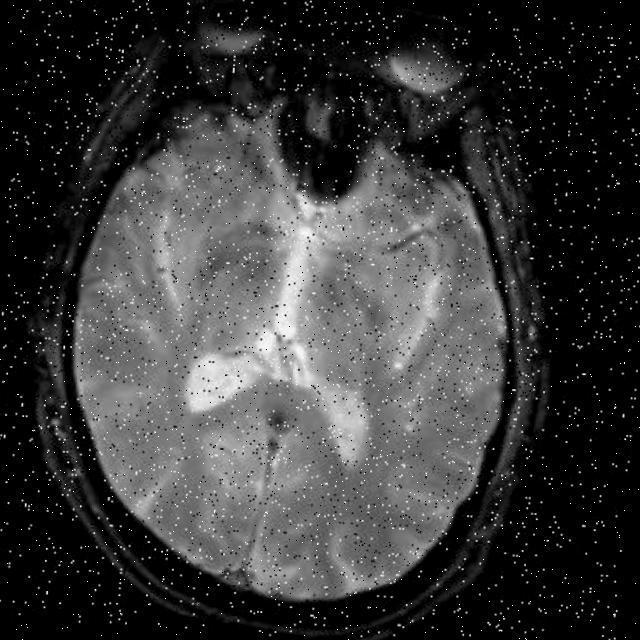EMCI: (302, 241, 412, 351), (208, 206, 279, 298)
